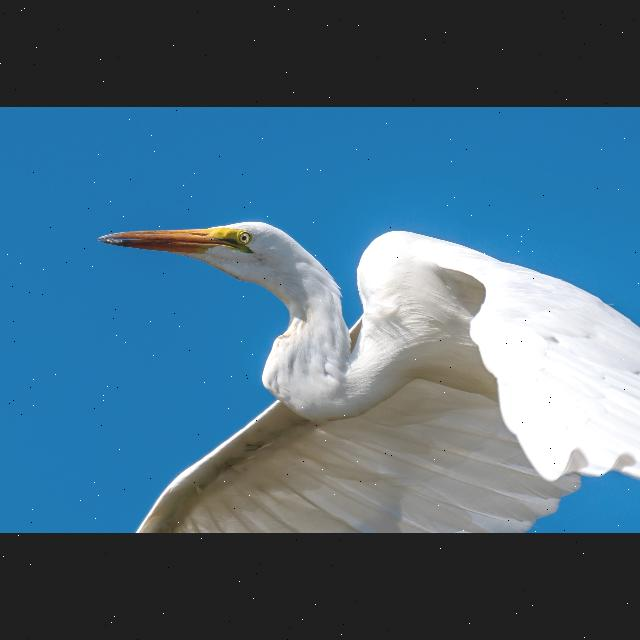egret: (88, 214, 640, 534)
